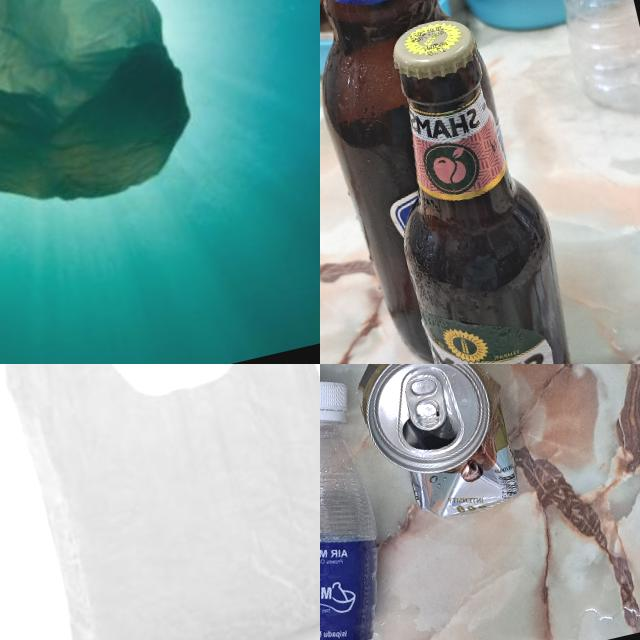aba de lata: (400, 370, 449, 432)
garrafa de vidro: (357, 4, 586, 364), (320, 0, 516, 364)
garrafa plástica: (320, 407, 409, 640), (504, 0, 640, 128)
lata: (347, 364, 528, 531)
sacola plástica: (0, 364, 320, 640), (0, 0, 226, 266)
tampa plástica: (320, 370, 352, 431)
